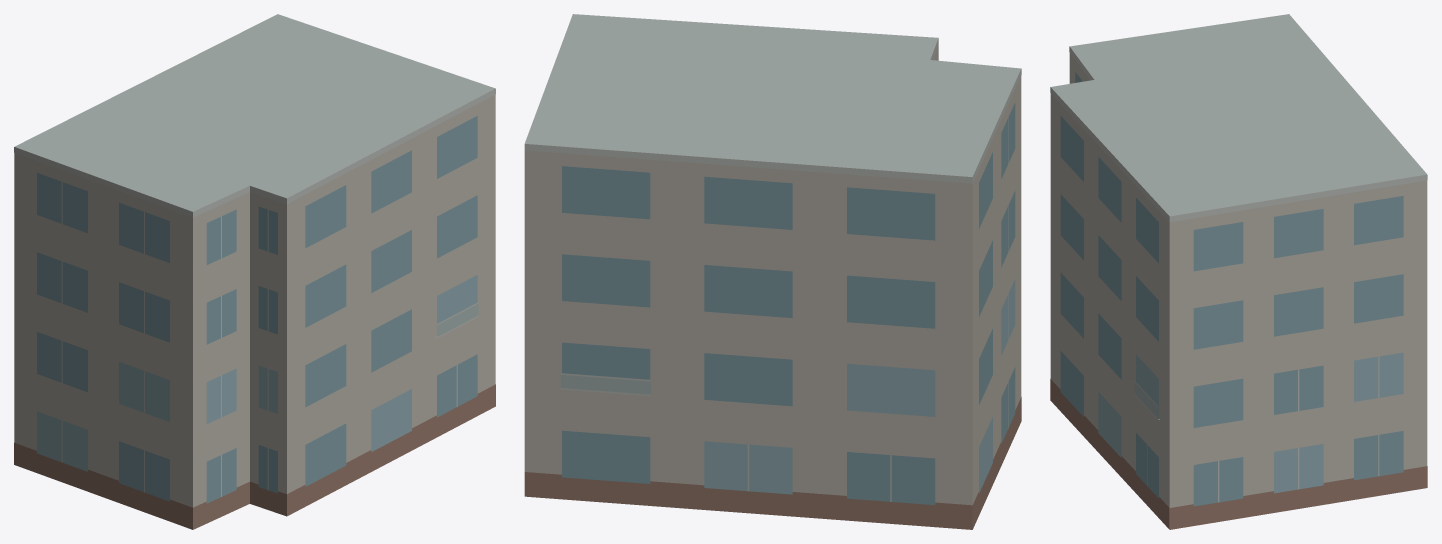
Rendered from survey-upis-32865636.glb.
3 renders of one model, left to right at view 1: azimuth 30°, elevation 25°; view 2: azimuth 150°, elevation 25°; view 3: azimuth 270°, elevation 25°, orthographic. The views are drawn at different scales.
Visible parts, largest first — view 1: survey-upis-32865636.tmp; view 2: survey-upis-32865636.tmp; view 3: survey-upis-32865636.tmp.
Boxes of the visible parts, x1,y1,x2,y2 form: survey-upis-32865636.tmp: (14,14,495,529); survey-upis-32865636.tmp: (524,14,1021,529); survey-upis-32865636.tmp: (1050,14,1427,529).
Bounding box in the file's own units: 18.16 × 13.1 × 14.29.
